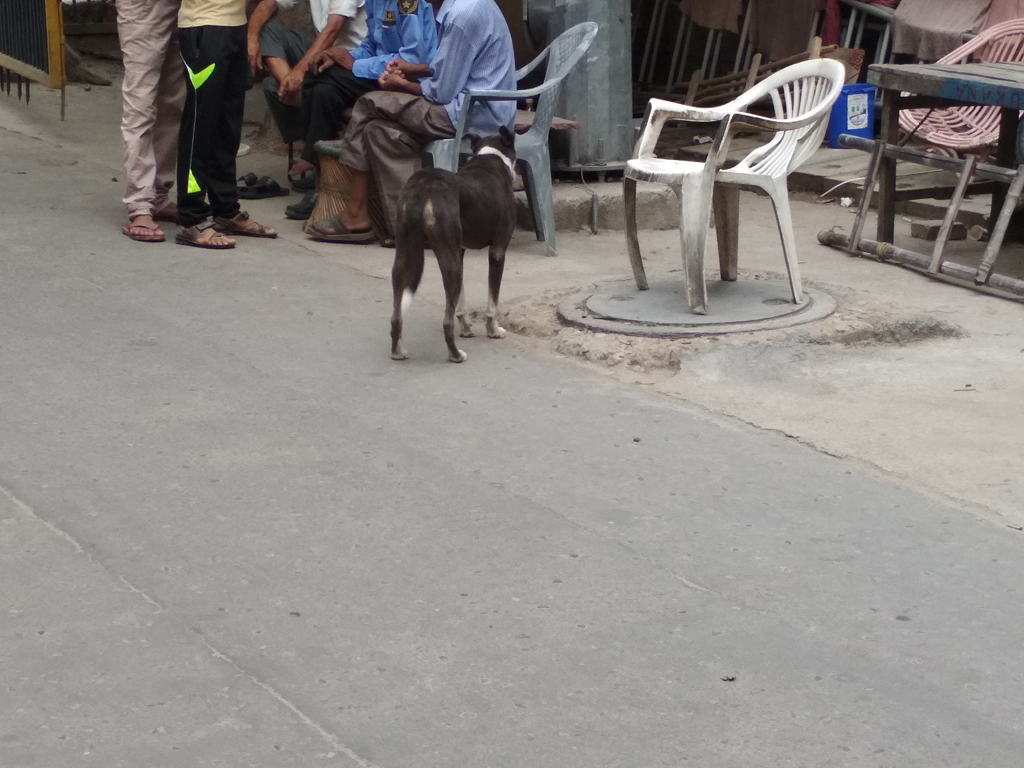dog: (388, 124, 517, 363)
